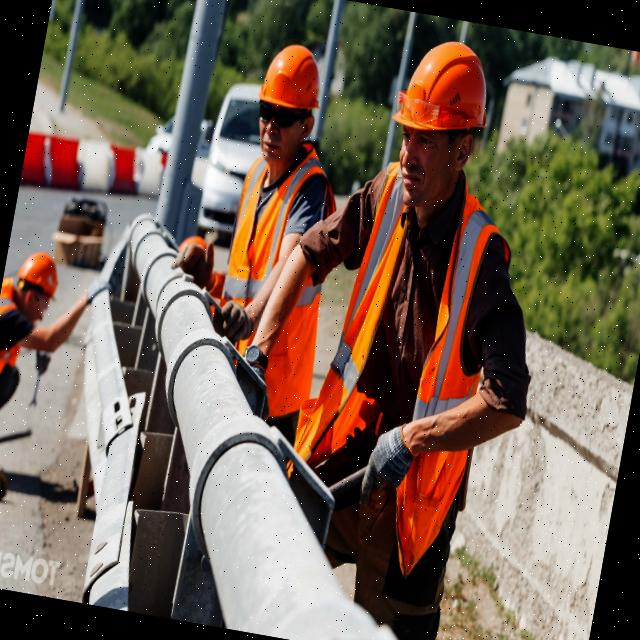Helmet: (388, 34, 499, 149), (256, 38, 330, 120), (15, 250, 66, 299)
Jacket: (311, 167, 501, 512), (209, 149, 342, 388)
